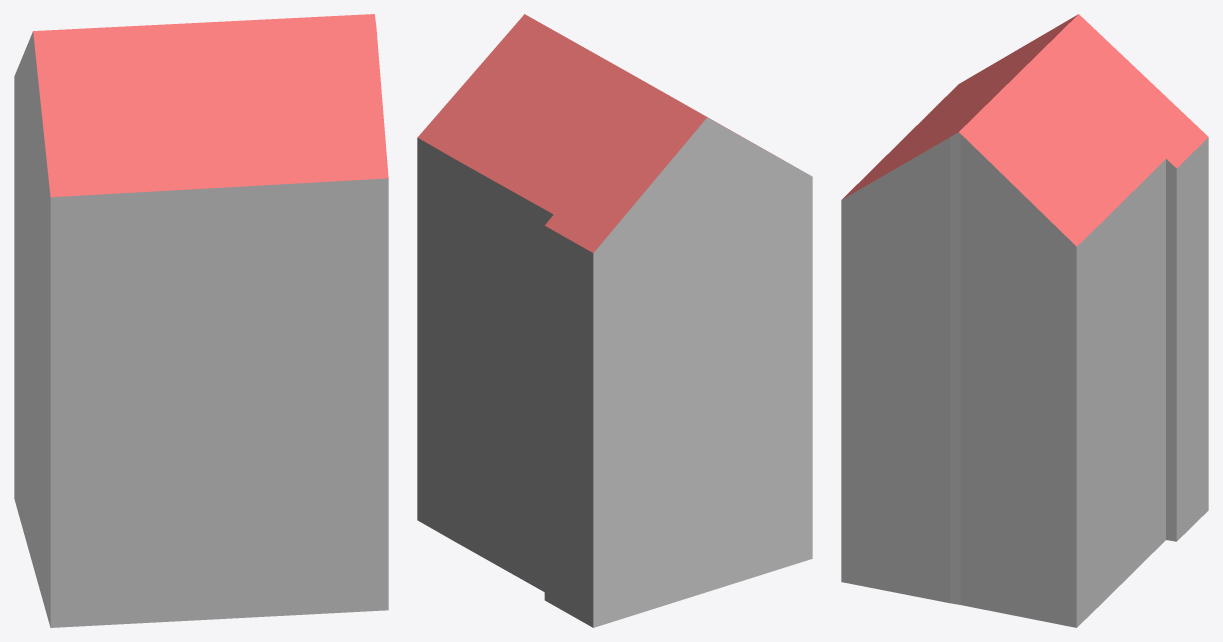
The model's file is DEBY_LOD2_4907154.gltf.
3 views of the same model, side by side, from view 1: azimuth 30°, elevation 25°; view 2: azimuth 150°, elevation 25°; view 3: azimuth 270°, elevation 25° (orthographic). The views are drawn at different scales.
Visible parts, largest first — view 1: Z_UP; view 2: Z_UP; view 3: Z_UP.
Boxes of the visible parts, box(x1,y1,x2,y2) form: Z_UP: box(14, 14, 388, 627); Z_UP: box(417, 14, 812, 627); Z_UP: box(841, 14, 1208, 627).
Bounding box in the file's own units: 16.37 × 22.12 × 15.59.
